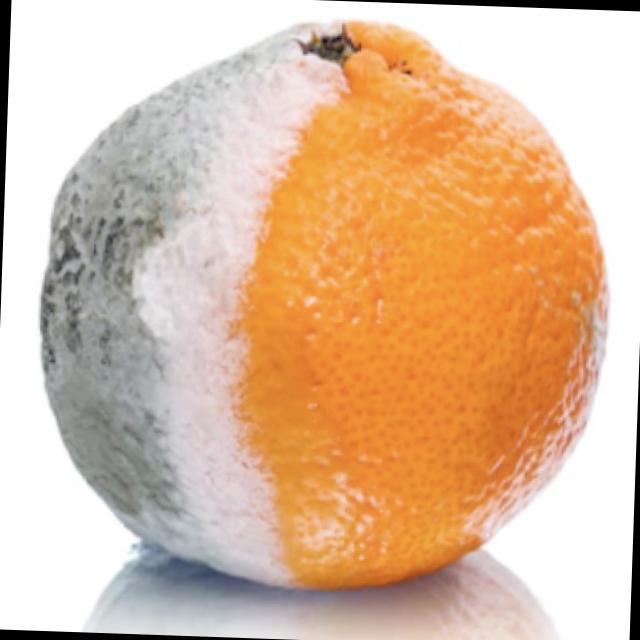rotten-orange: (26, 4, 618, 606)
